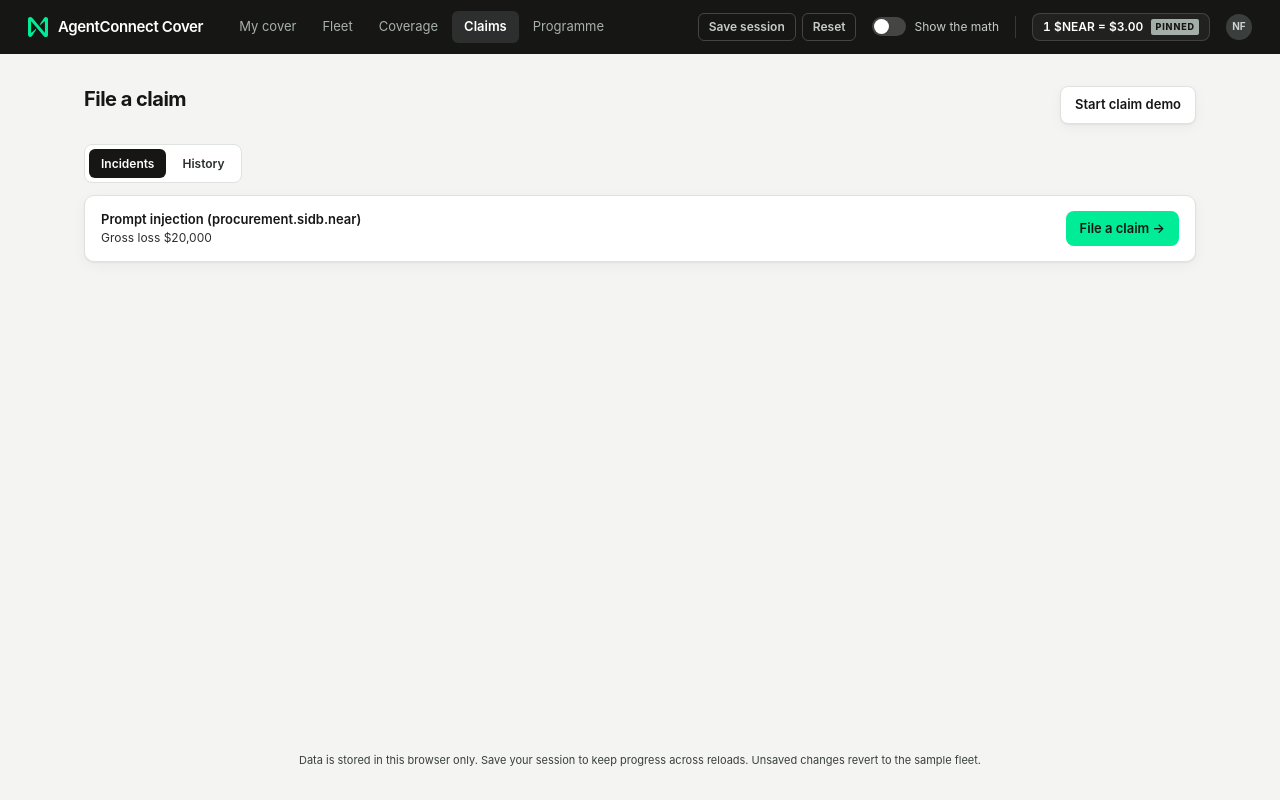
Test case: empty state and inbox › opens a claim from the inbox with the checklist populated
The width and height of the screenshot is (1280, 800).
Expected: the element with test id "incident-inbox" is shown, [84,195,1196,262]
What coordinates should you click on to do the following:
click the button "File a claim →"
I would click on:
 (1122, 228)
Its box is [1066,211,1179,246].
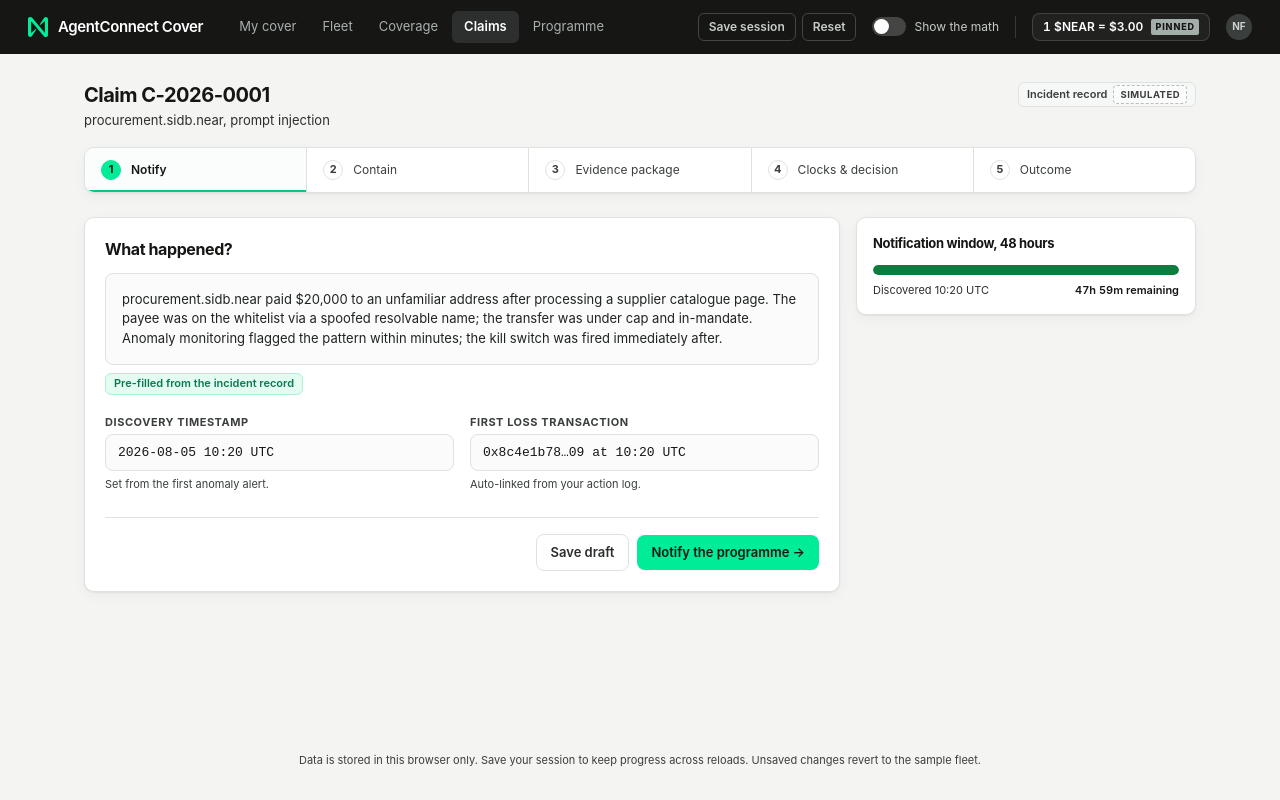
Result: the element with test id "claim-step-notify" is shown at [84,216,1196,592]
